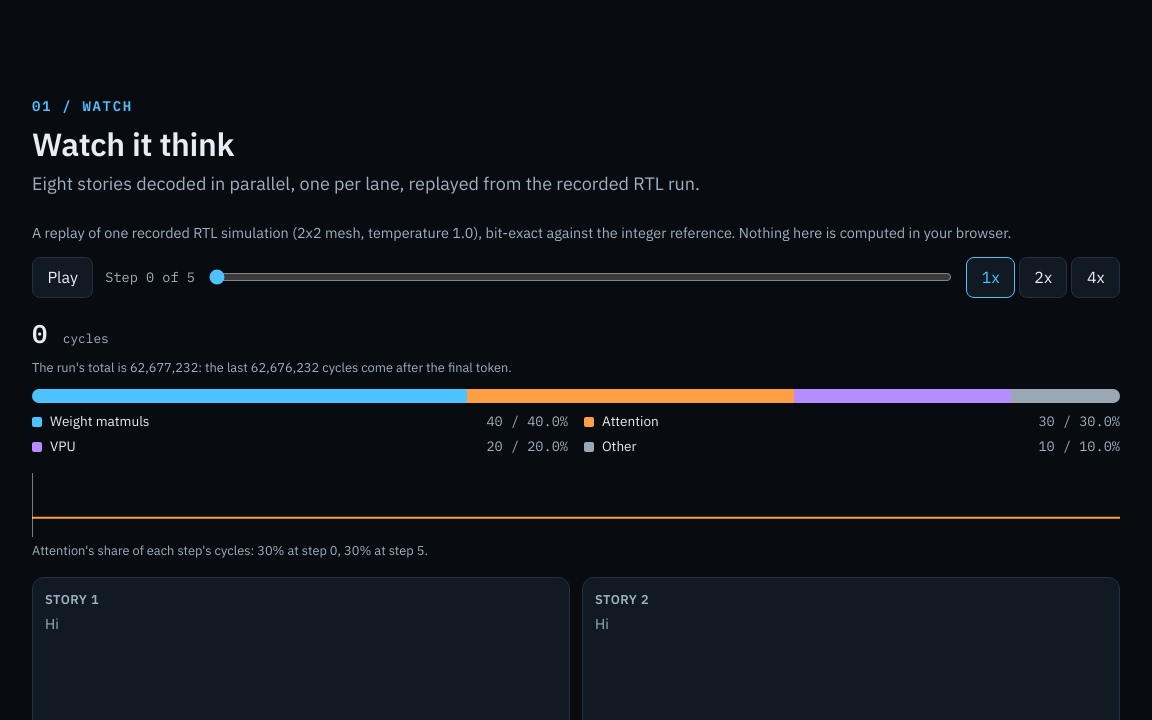
ReplaySection › freezes a story that has ended while the others keep growing
Set the slider to "5": (944, 277) [209,269,952,285]
(page scrolled)
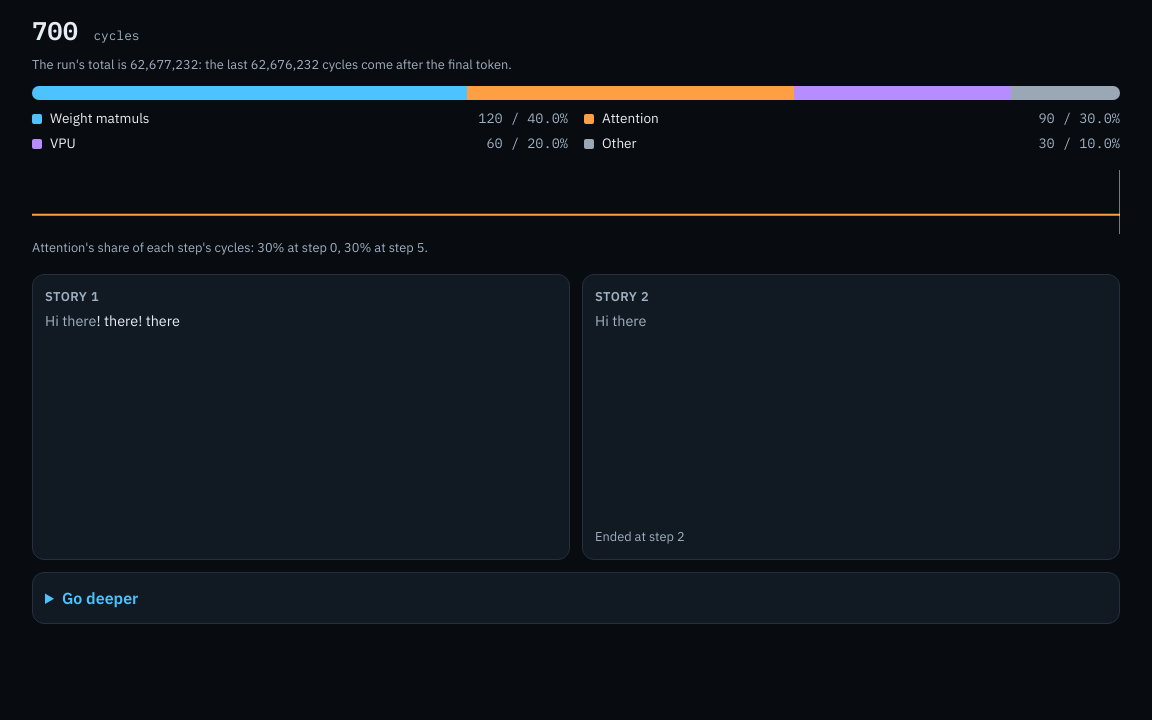
Expected: the element with class "lane-text" reads "Hi there", [595,311,646,330]
Expected: the element with class "lane-text" reads "Hi there! there! there", [45,311,180,330]
Expected: the text "Ended at step 2" is shown, [595,528,685,545]
